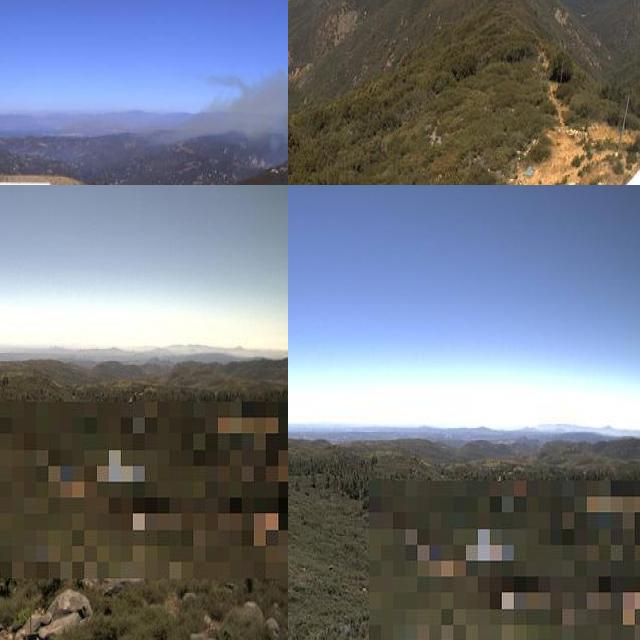smoke: (171, 62, 288, 167)
